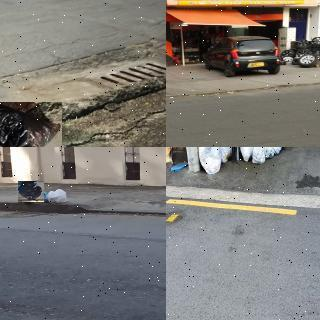Garbage: (0, 102, 62, 147), (197, 147, 223, 173), (18, 182, 44, 204), (47, 189, 69, 204), (237, 147, 255, 162), (266, 147, 286, 157), (253, 147, 266, 162), (41, 192, 50, 203)
